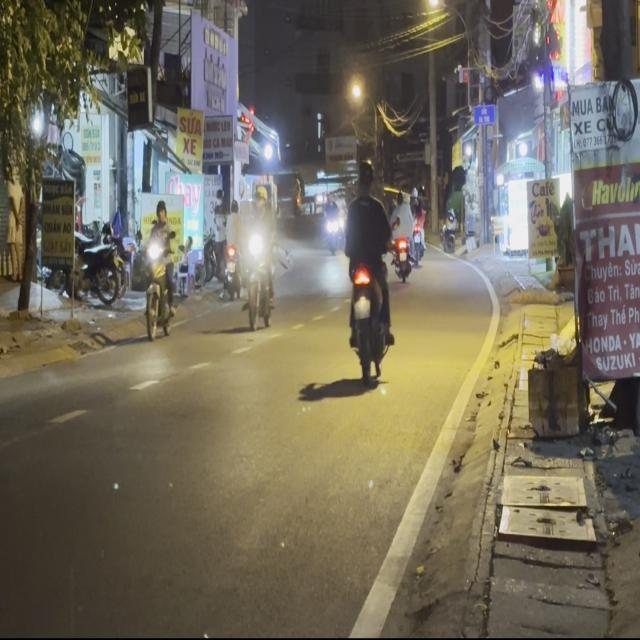helmet: (355, 154, 374, 194)
licenseplate: (340, 152, 394, 384), (140, 197, 178, 341)
nohelmet: (353, 298, 370, 316)
